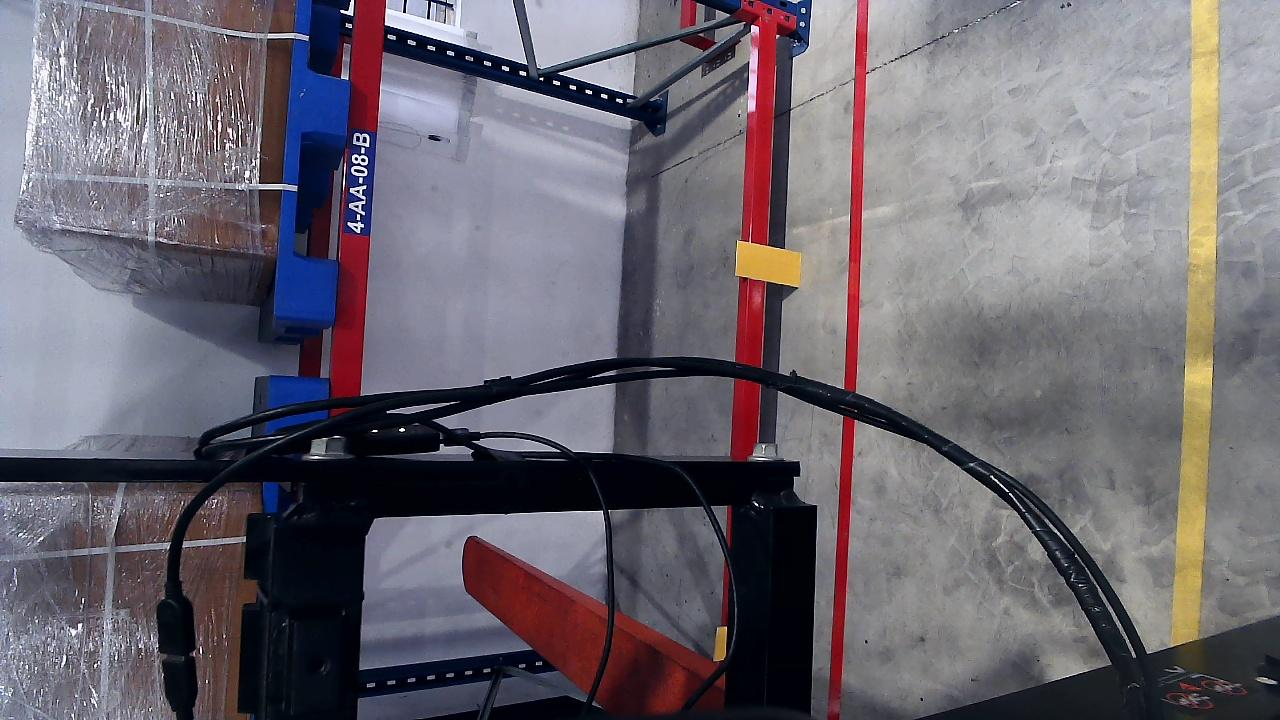h_rack: (725, 17, 780, 465), (330, 0, 388, 398)
orange_strip: (735, 241, 801, 287)
red_line: (826, 2, 868, 720)
small_pallet: (270, 1, 362, 318)
yellow_line: (1172, 0, 1221, 650)
